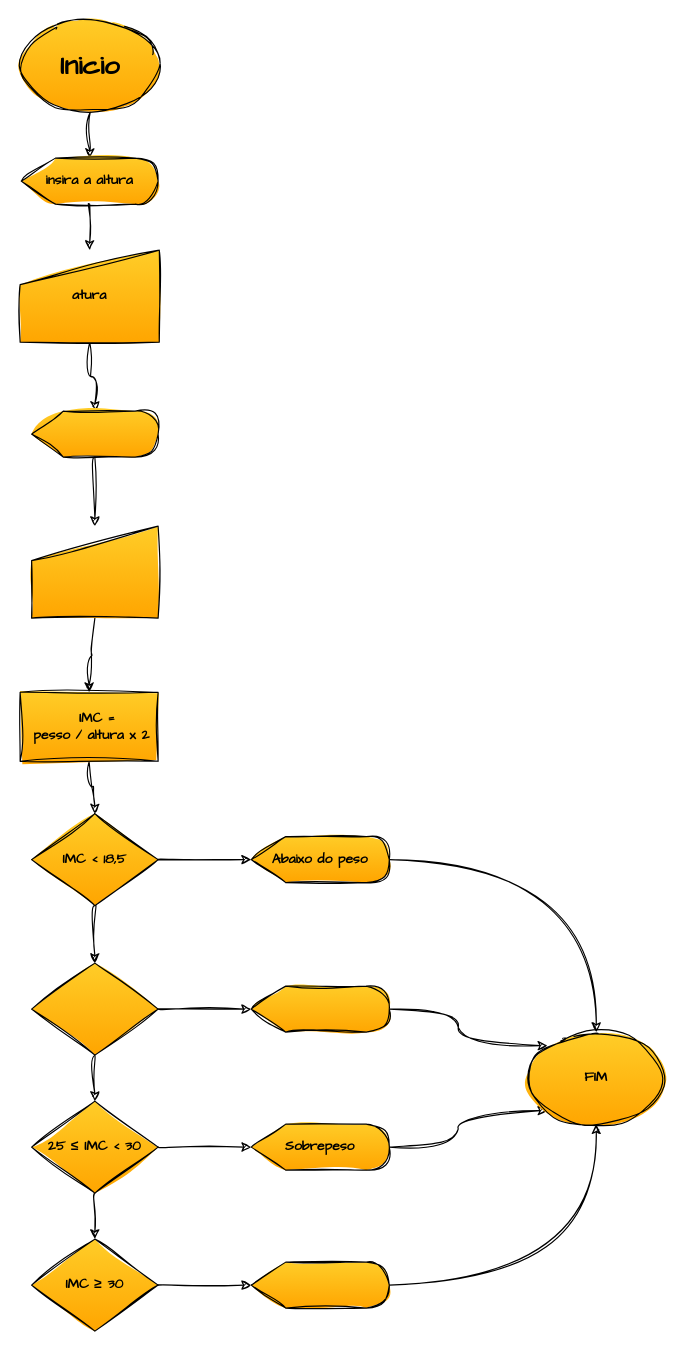
This 685x1351 diagram has some shape labels left out. Here are the shapes that lost their labels. From the top down, the centre of each, then its label:
At (x=94, y=433): "insira o pesso".
At (x=94, y=571): "pesso".
At (x=94, y=1008): "18,5 ≤ IMC < 25".
At (x=319, y=1008): "Peso normal".
At (x=319, y=1284): "Obesidade".
